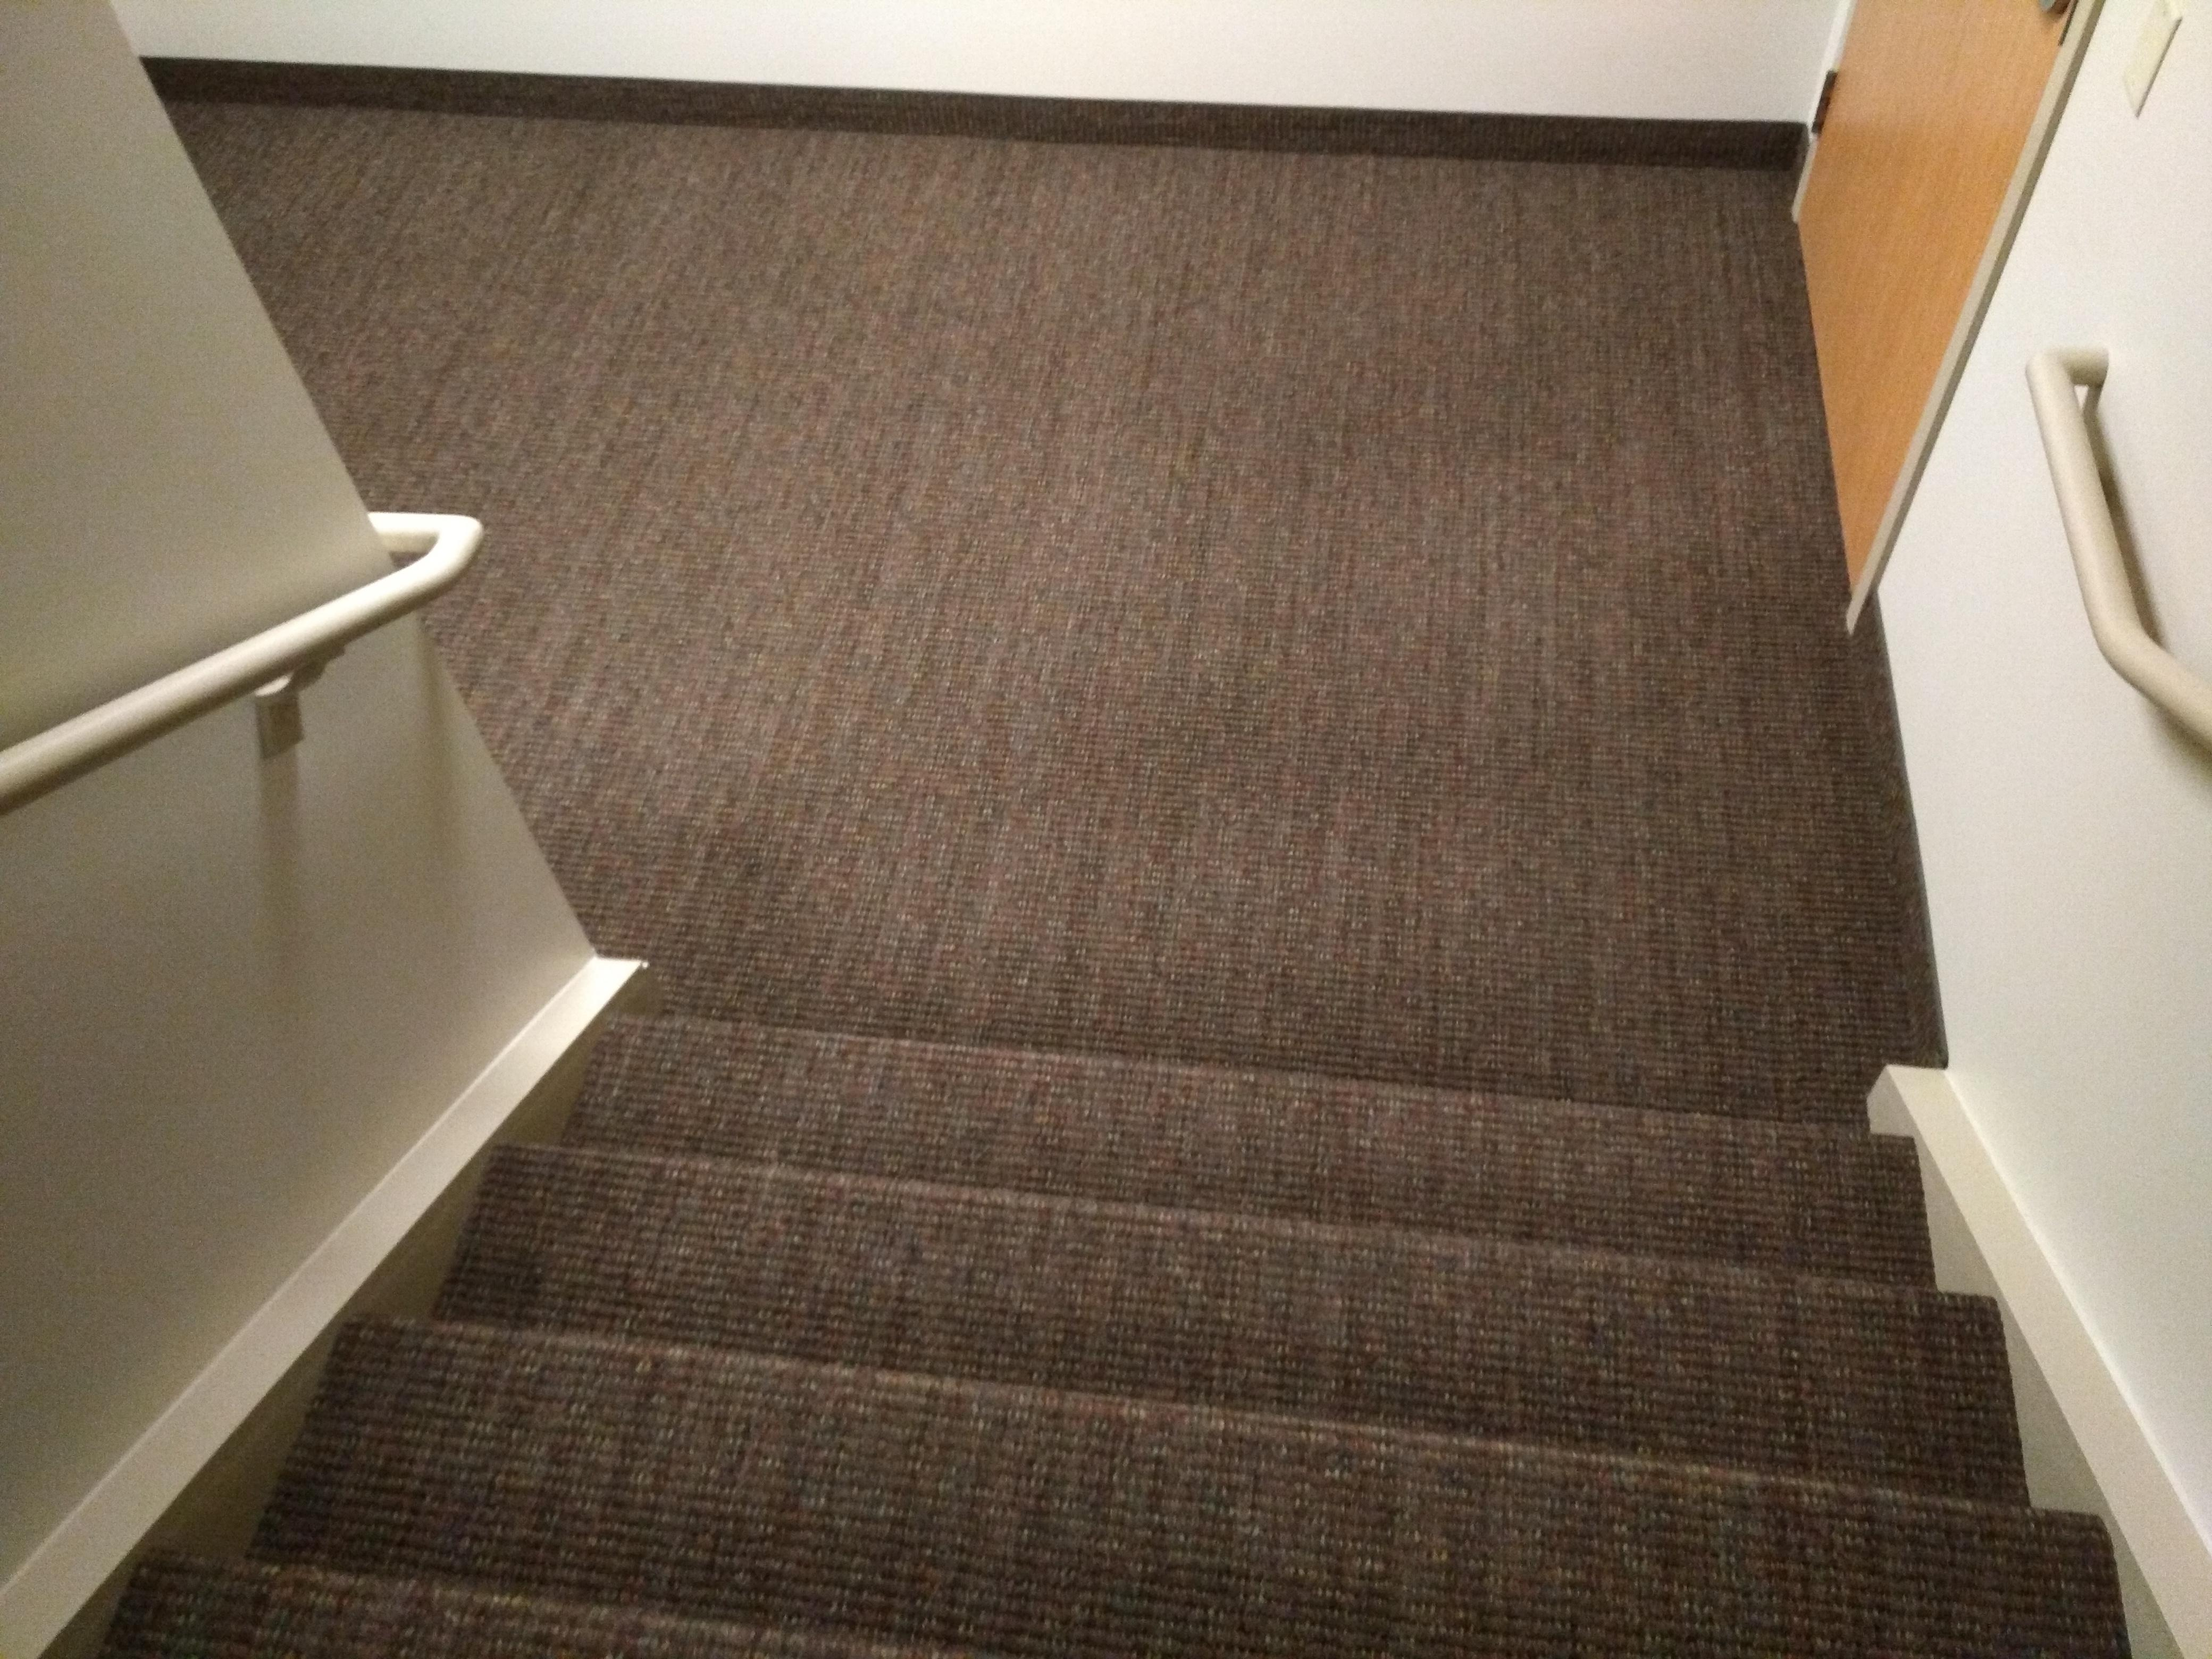stairs_down: (204, 1021, 2181, 1610)
